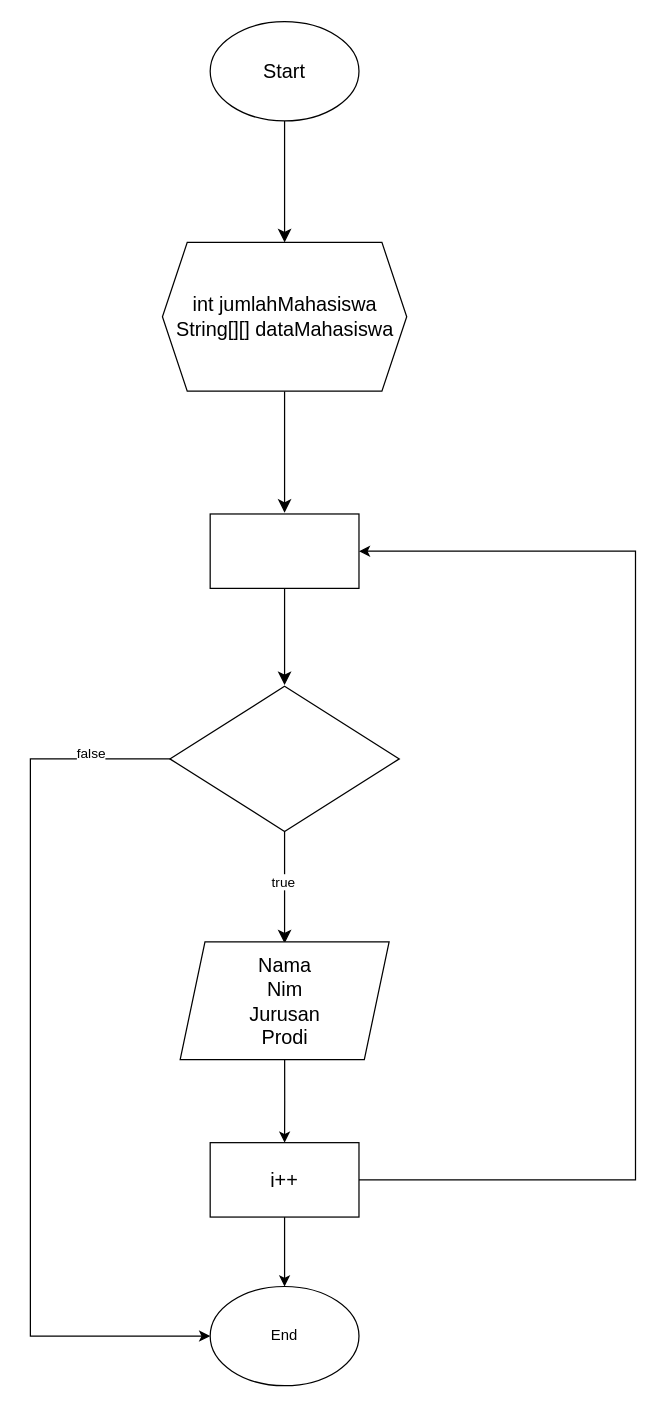
The diagram is 667 pixels wide and 1407 high, and some of its shapes have lost their labels. Here are the shapes that lost their labels. From the top down, the box of each, then its label:
(209, 513, 359, 588): i = 0
(169, 685, 399, 831): if i < jmlMahasiswa
